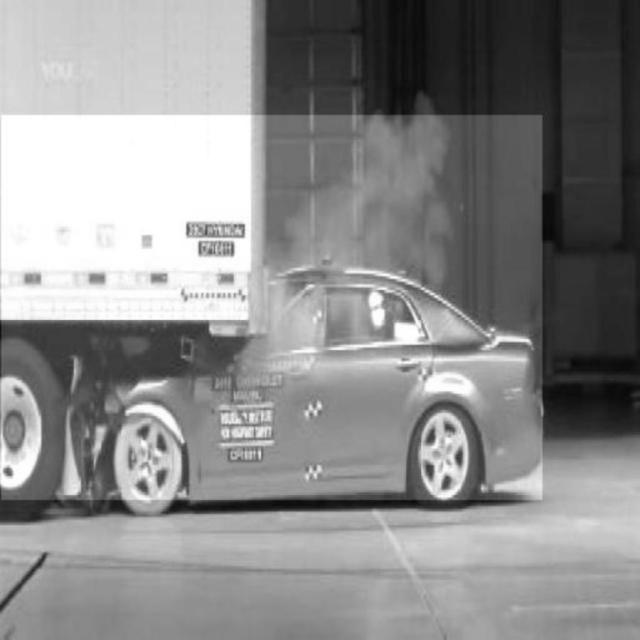accident: (1, 116, 542, 500)
